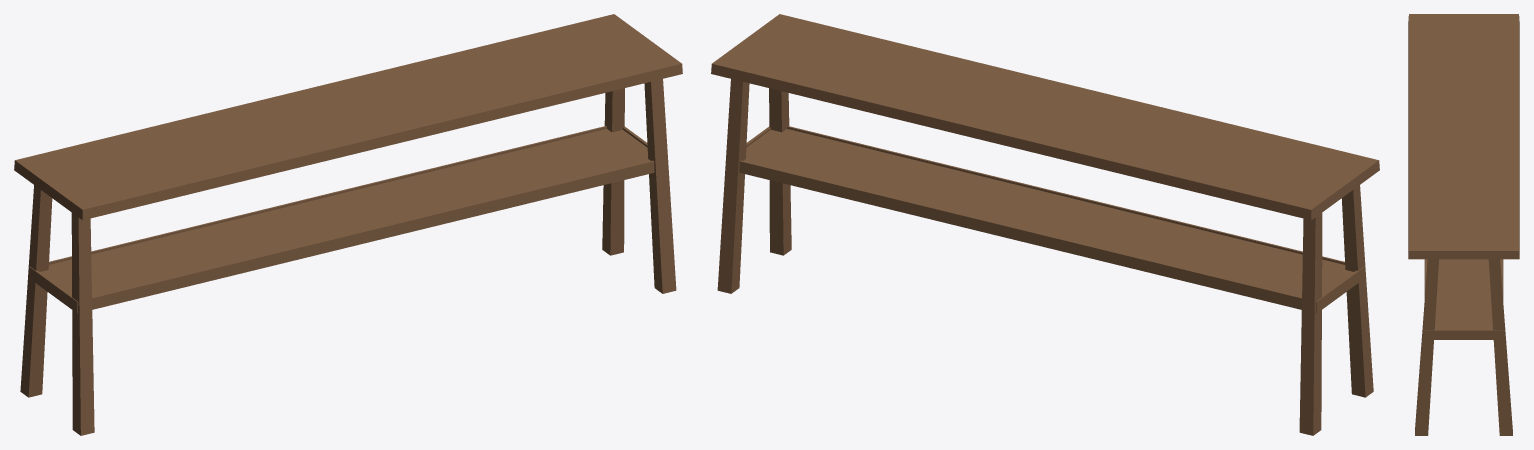
Rendered from SM_bench_wide.fbx.
3 renders of one model, left to right at view 1: azimuth 30°, elevation 25°; view 2: azimuth 150°, elevation 25°; view 3: azimuth 270°, elevation 25°, orthographic. The views are drawn at different scales.
Parts seen in each view (by area): view 1: Box080; view 2: Box080; view 3: Box080.
Part boxes in pixels (box(x1,y1,x2,y2)): Box080: box(14, 14, 682, 435); Box080: box(711, 14, 1379, 435); Box080: box(1408, 14, 1519, 435).
Size of the model in its own units: 83.11 by 16.44 by 30.32.
